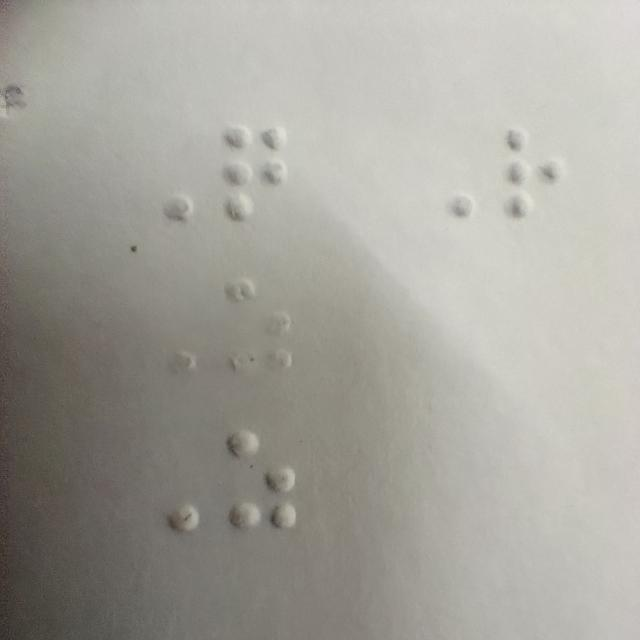capital_sign: (126, 122, 198, 227), (132, 431, 204, 536), (404, 118, 476, 223)
letter_Q: (220, 122, 292, 227)
letter_R: (494, 120, 566, 225)
letter_Z: (225, 426, 298, 533)
